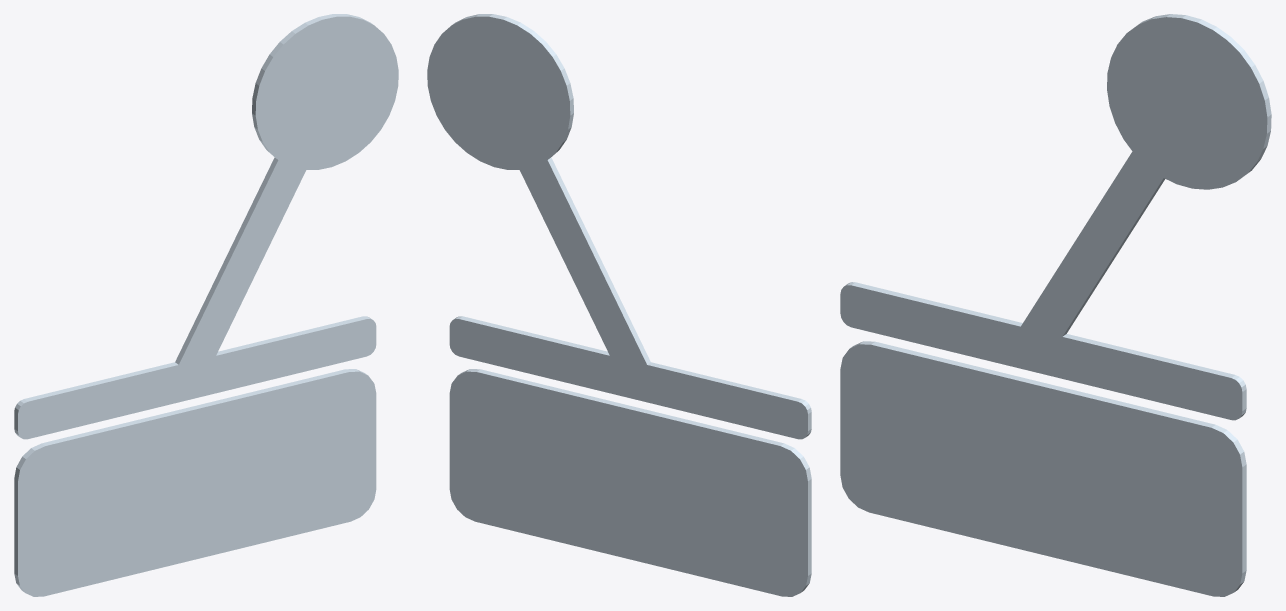
The model's file is Play_Controller_3D_Icon.fbx.
3 views of the same model, side by side, from view 1: azimuth 30°, elevation 25°; view 2: azimuth 150°, elevation 25°; view 3: azimuth 330°, elevation 25° (orthographic). The views are drawn at different scales.
Visible parts, largest first — view 1: Play_Controller_3D_Icon_01; view 2: Play_Controller_3D_Icon_01; view 3: Play_Controller_3D_Icon_01.
Part boxes in pixels (x1,y1,x2,y2): Play_Controller_3D_Icon_01: (14, 14, 398, 596); Play_Controller_3D_Icon_01: (427, 14, 811, 596); Play_Controller_3D_Icon_01: (840, 14, 1271, 596).
Size of the model in its own units: 117 by 149 by 2.
